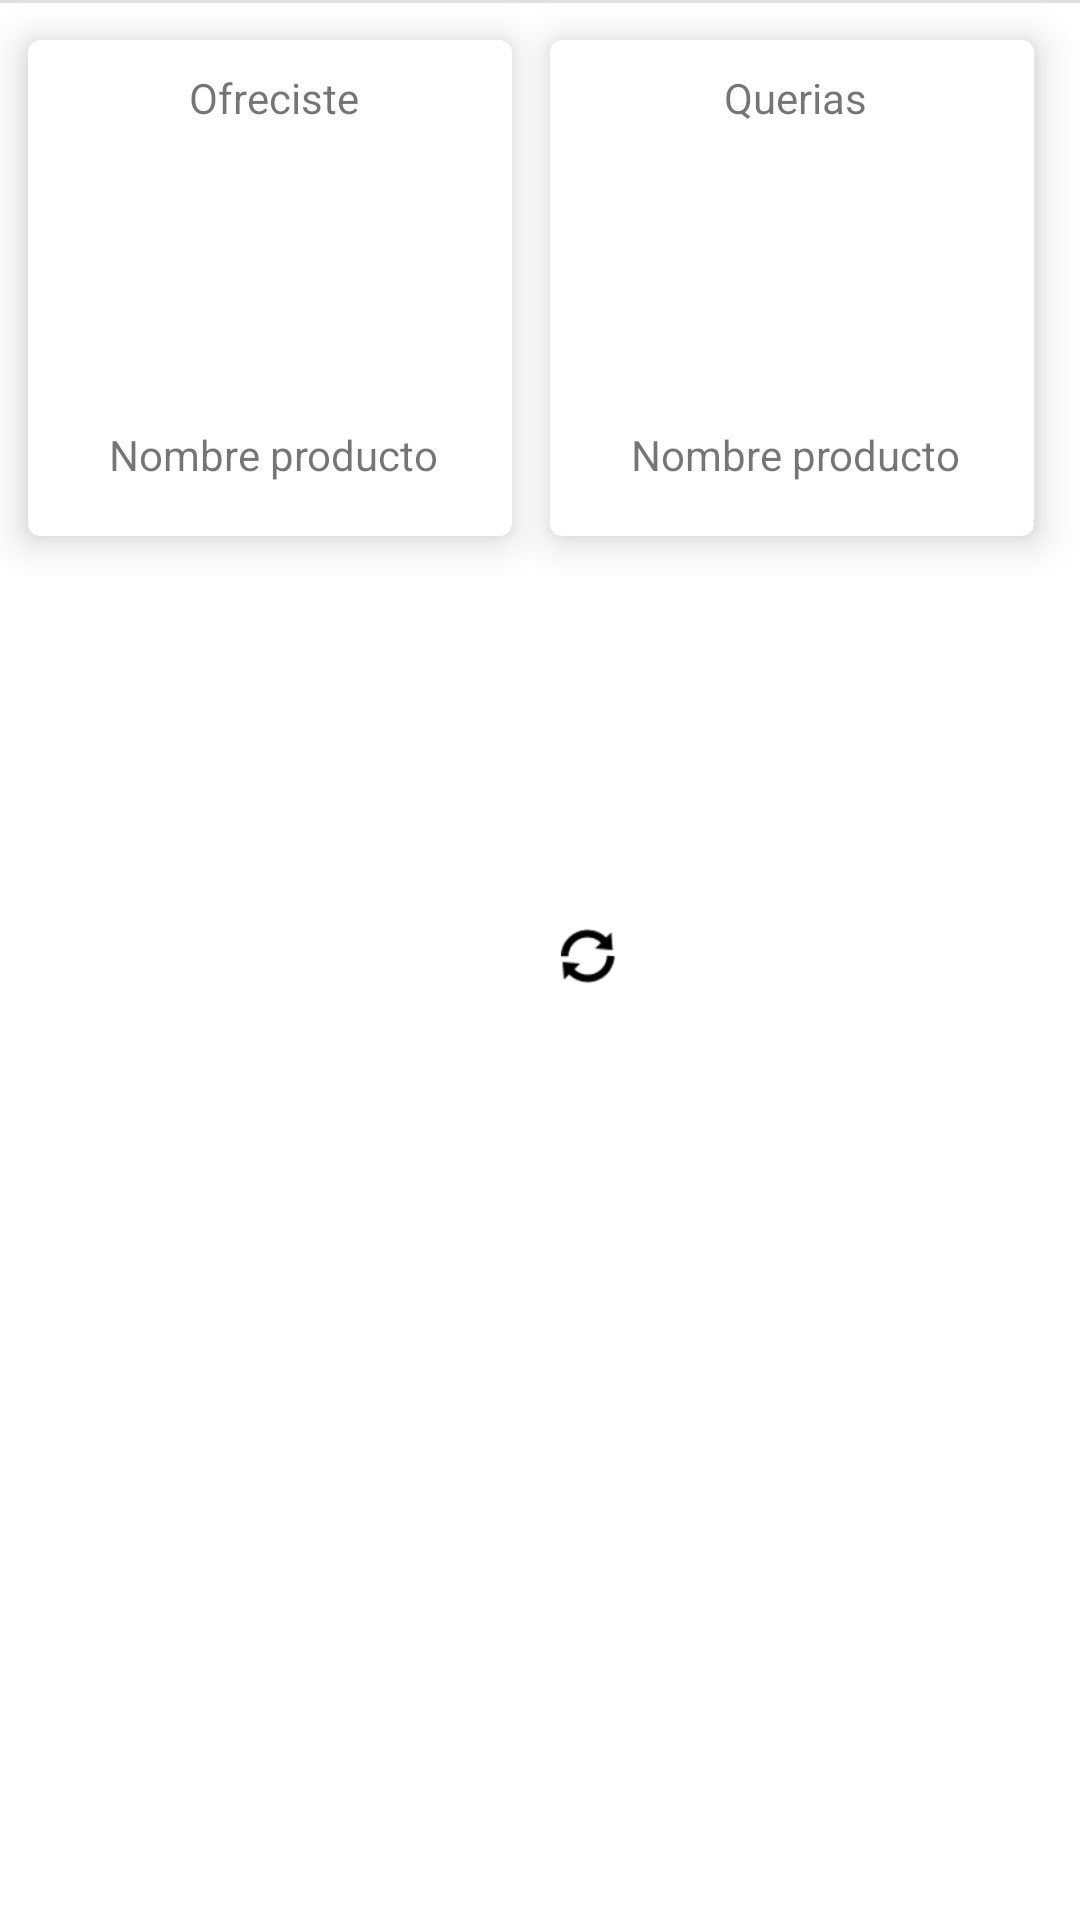

Icons on this 1080×1920 Android screen, each with its box as box(x1, y1, x2, y2):
popup sync: box(560, 929, 615, 983)
